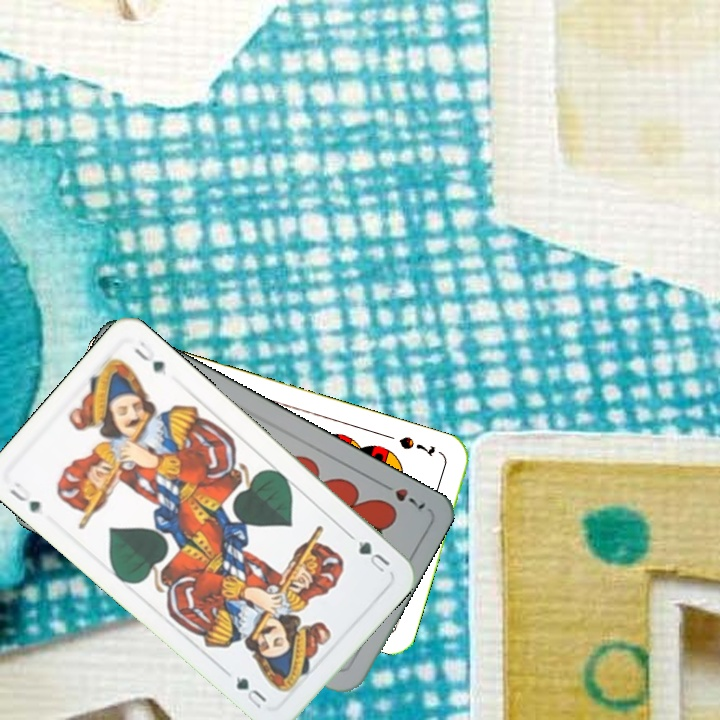GU: (354, 536, 393, 575), (5, 477, 43, 517)
H7: (375, 477, 428, 512)
S7: (395, 432, 438, 460)
